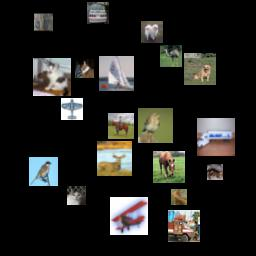airplane: (110, 197, 148, 235), (61, 98, 83, 120)
automobile: (87, 2, 109, 24)
bird: (138, 108, 173, 143), (29, 157, 58, 186), (160, 45, 182, 67)
cat: (33, 58, 71, 96), (34, 13, 53, 32), (67, 186, 86, 205), (75, 59, 94, 78), (207, 164, 223, 180)
deer: (97, 141, 132, 176), (171, 189, 187, 205)
dog: (184, 53, 216, 85), (141, 21, 163, 43)
ship: (99, 56, 134, 91)
truck: (197, 118, 235, 156), (168, 210, 200, 242)
